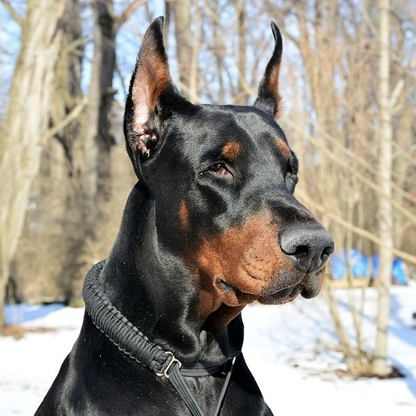doberman: (66, 16, 339, 416)
